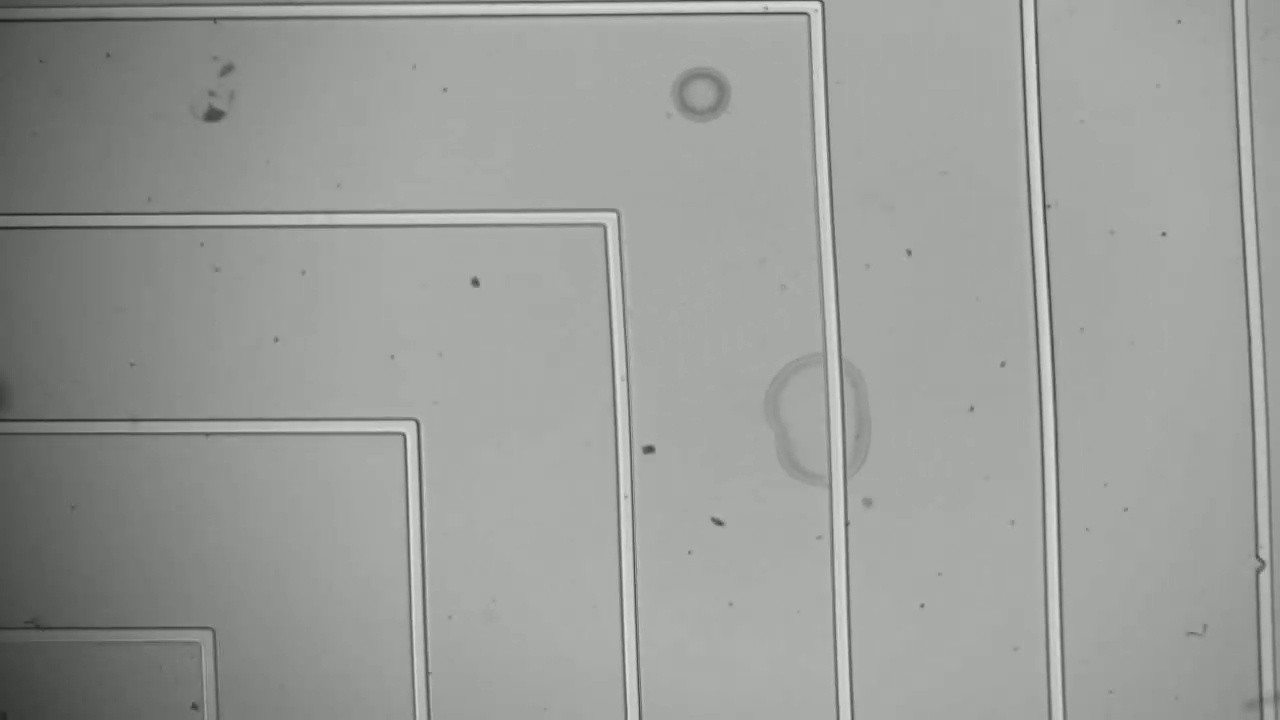edge_bite: (1247, 550, 1275, 581)
